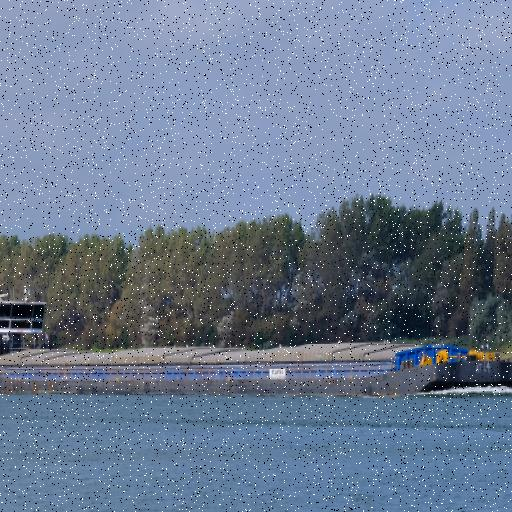tugboat: (1, 285, 57, 402)
